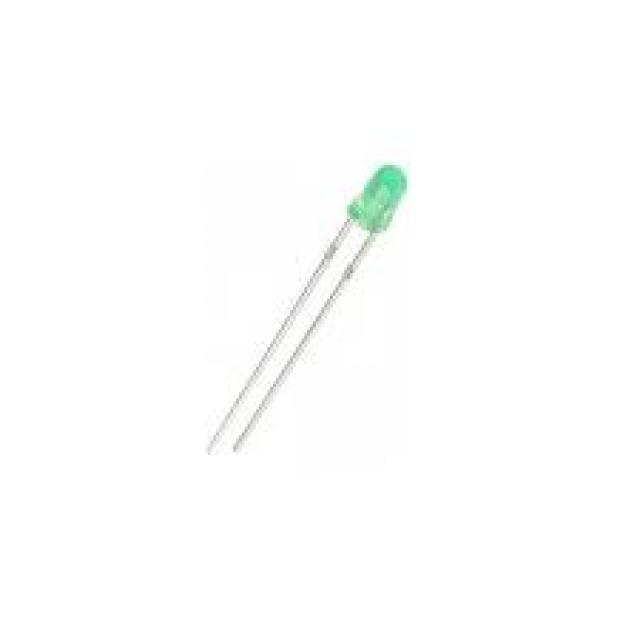Led: (208, 166, 406, 452)
